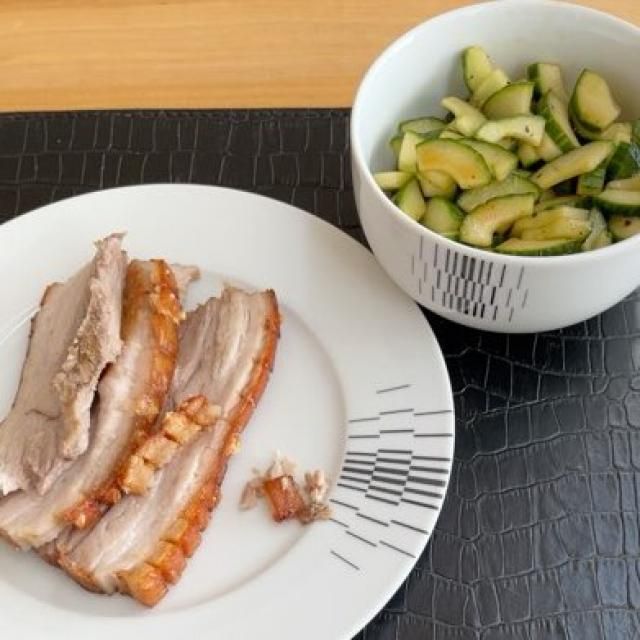cucumber: (394, 45, 639, 236)
pork: (7, 239, 263, 596)
